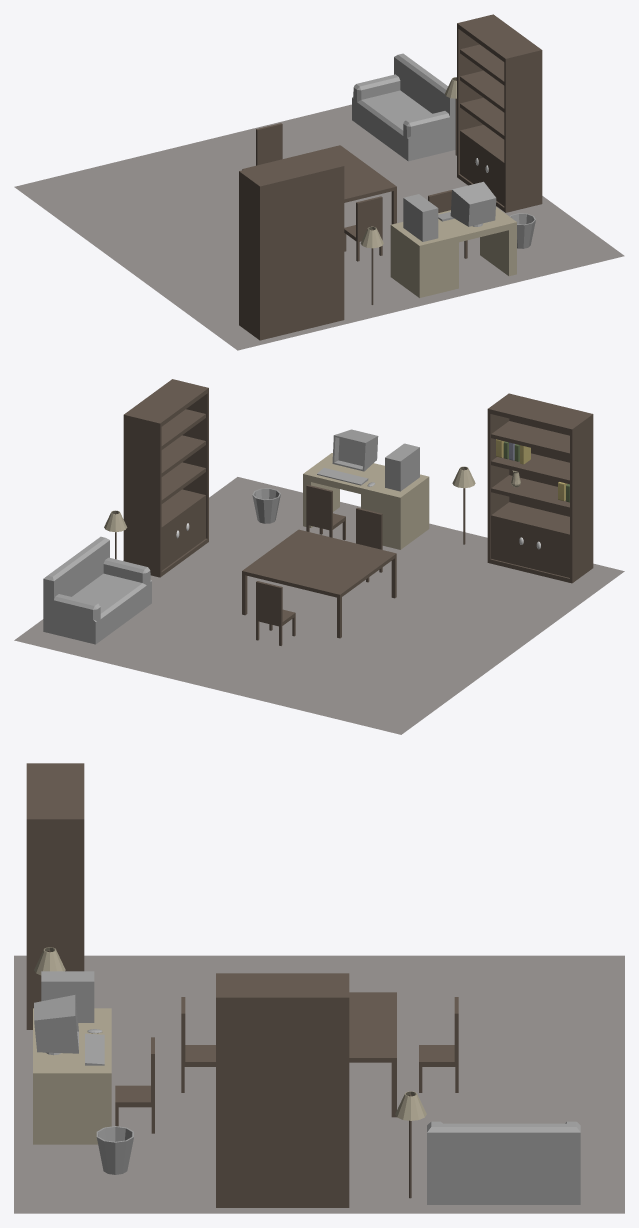
The model's file is BackGroundScene.fbx.
3 renders of one model, top to bottom at view 1: azimuth 30°, elevation 25°; view 2: azimuth 150°, elevation 25°; view 3: azimuth 270°, elevation 25°, orthographic. The views are drawn at different scales.
Visible parts, largest first — view 1: suelo, estanteria, estanteria1, pCube4, escritorio, mesa, monitor, pc, pCube2, pCube1, tacho_basura, lampara_piso; view 2: suelo, estanteria, estanteria1, pCube4, mesa, escritorio, monitor, pCube1, pCube3, pc, pCube2, tacho_basura (+1 smaller); view 3: suelo, estanteria1, pCube4, estanteria, escritorio, mesa, monitor, pc, tacho_basura, pCube1, pCube3, pCube2 (+2 smaller).
Part boxes in pixels (box(x1,y1,x2,y2)): suelo: box(14, 104, 624, 350); estanteria: box(239, 150, 344, 340); estanteria1: box(457, 14, 542, 212); pCube4: box(352, 53, 455, 161); escritorio: box(390, 207, 516, 297); mesa: box(242, 145, 396, 224); monitor: box(450, 181, 496, 226); pc: box(403, 194, 438, 241); pCube2: box(344, 196, 382, 261); pCube1: box(256, 123, 282, 165); tacho_basura: box(509, 213, 535, 248); lampara_piso: box(360, 226, 383, 304); suelo: box(14, 477, 624, 734); estanteria: box(487, 393, 593, 583); estanteria1: box(123, 379, 208, 577); pCube4: box(43, 536, 151, 644); mesa: box(242, 529, 396, 638); escritorio: box(303, 453, 429, 549); monitor: box(332, 429, 378, 471); pCube1: box(256, 581, 295, 645); pCube3: box(306, 485, 345, 540); pc: box(385, 443, 419, 491); pCube2: box(356, 507, 382, 582); tacho_basura: box(252, 488, 280, 523); suelo: box(14, 955, 624, 1213); estanteria1: box(216, 973, 349, 1207); pCube4: box(427, 1121, 580, 1204); estanteria: box(26, 763, 84, 1029); escritorio: box(33, 1008, 111, 1144); mesa: box(349, 992, 396, 1117); monitor: box(34, 995, 78, 1055); pc: box(41, 971, 94, 1022); tacho_basura: box(96, 1126, 133, 1174); pCube1: box(419, 997, 458, 1092); pCube3: box(115, 1037, 154, 1133); pCube2: box(181, 997, 215, 1092).
Bounding box in the file's own units: 105 × 40.21 × 105.
